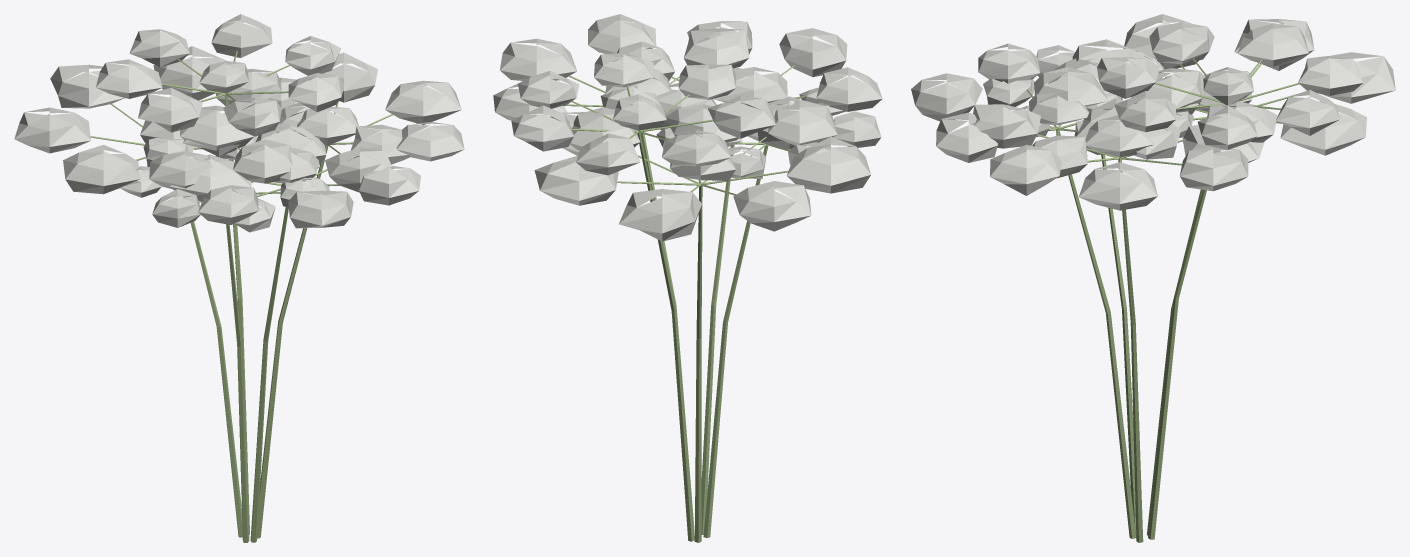
File: temperate-forest-ecology-cow-parsley-group-d32b8f86__3858.glb
3 renders of one model, left to right at view 1: azimuth 30°, elevation 25°; view 2: azimuth 150°, elevation 25°; view 3: azimuth 270°, elevation 25°, orthographic. The views are drawn at different scales.
Visible parts, largest first — view 1: cow-parsley-group; view 2: cow-parsley-group; view 3: cow-parsley-group.
Boxes of the visible parts, bbox=[...] form: cow-parsley-group: bbox=[14, 14, 464, 542]; cow-parsley-group: bbox=[493, 14, 882, 542]; cow-parsley-group: bbox=[911, 14, 1395, 542].
Size of the model in its own units: 0.992 by 1.14 by 1.04.
